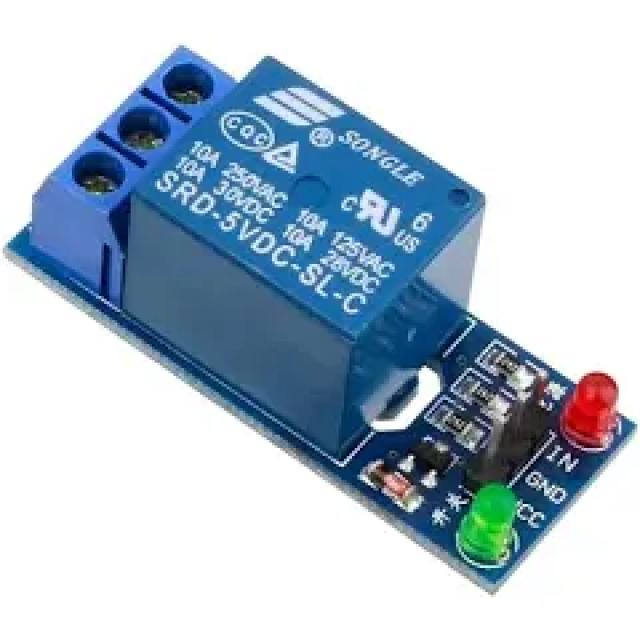Relay: (8, 48, 635, 595)
